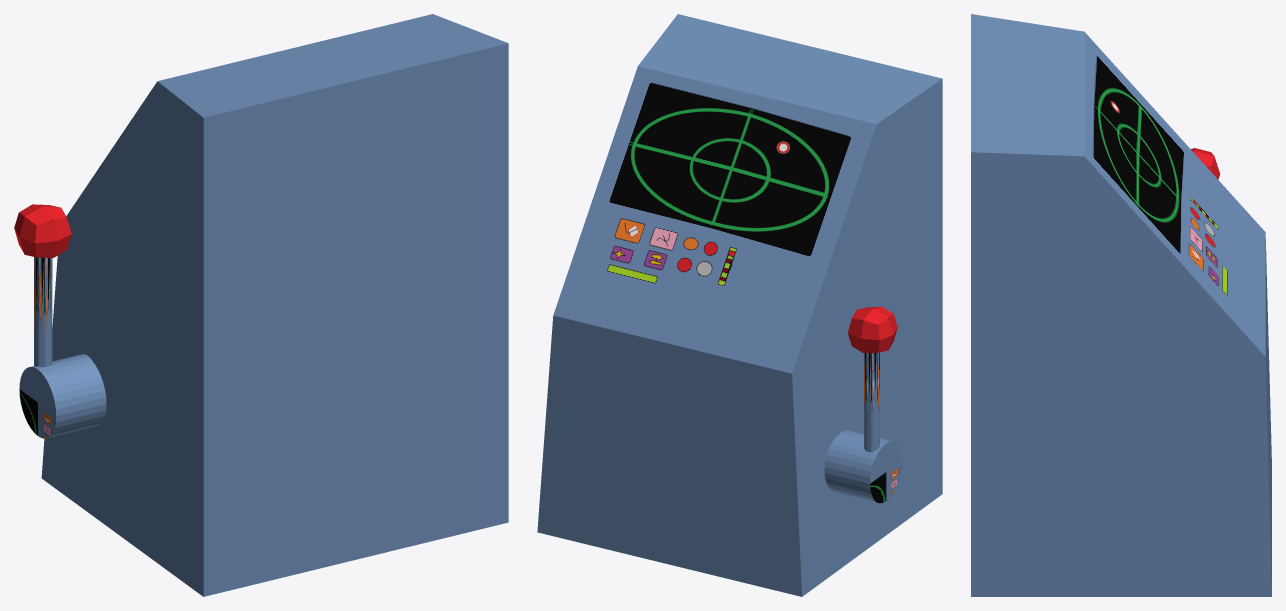
Rendered from binnenkant fabriek.fbx.
3 views of the same model, side by side, from view 1: azimuth 30°, elevation 25°; view 2: azimuth 150°, elevation 25°; view 3: azimuth 270°, elevation 25° (orthographic). The views are drawn at different scales.
Parts seen in each view (by area): view 1: Cube.013; view 2: Cube.013; view 3: Cube.013.
Part boxes in pixels (box(x1,y1,x2,y2)): Cube.013: box(14, 14, 508, 596); Cube.013: box(537, 14, 942, 596); Cube.013: box(971, 14, 1271, 596).
Bounding box in the file's own units: 483 × 600 × 368.
1 material, 1 textured.
